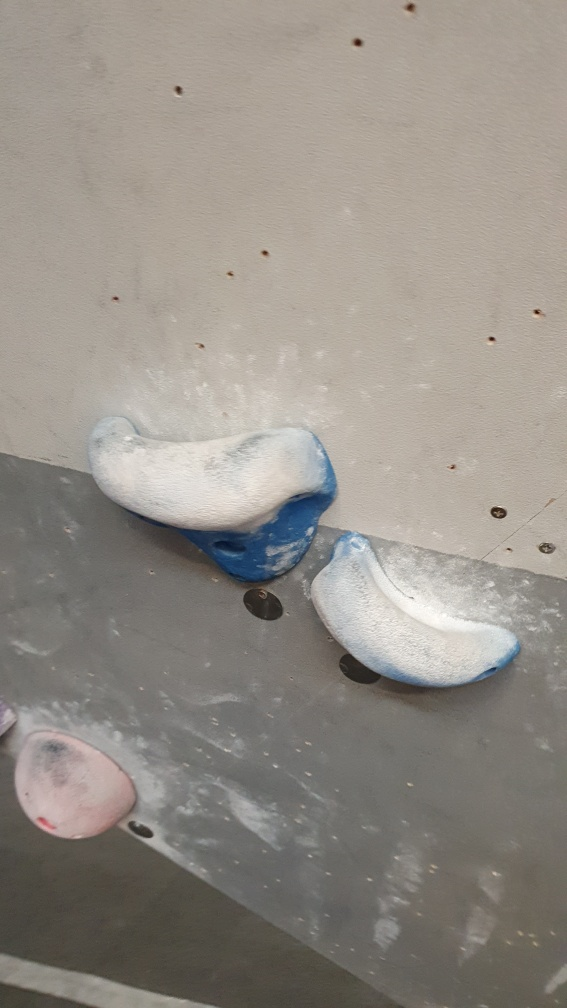Hand Start: (328, 643, 385, 698), (238, 586, 290, 622), (124, 818, 163, 842)
Jug: (79, 409, 341, 586), (305, 528, 526, 698)
Sloper: (17, 724, 142, 843)
